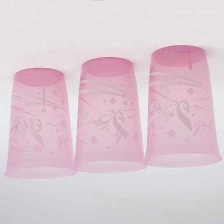glass: (67, 54, 161, 182), (140, 43, 223, 175), (0, 59, 77, 188)
